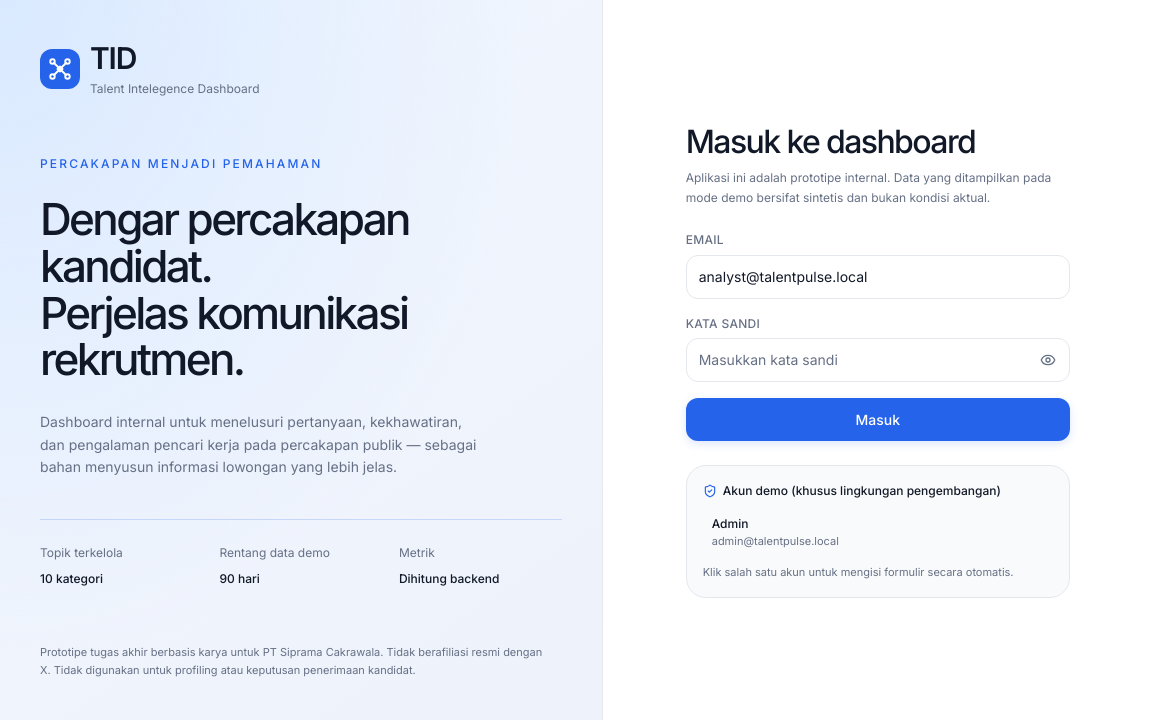
halaman masuk › menampilkan pesan Bahasa Indonesia saat kredensial salah
In the password field labelled "Kata sandi": (878, 360) x1=686 y1=338 x2=1070 y2=382, type "salah"
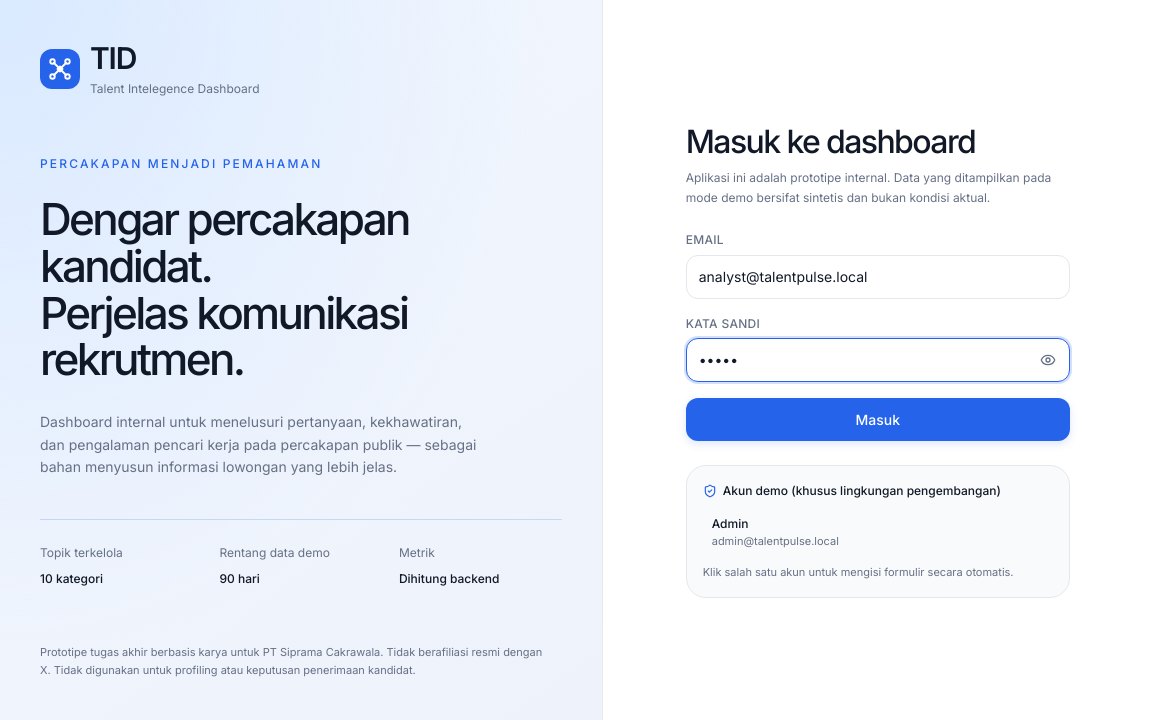
Click the button "Masuk": click(878, 420) x1=686 y1=398 x2=1070 y2=441
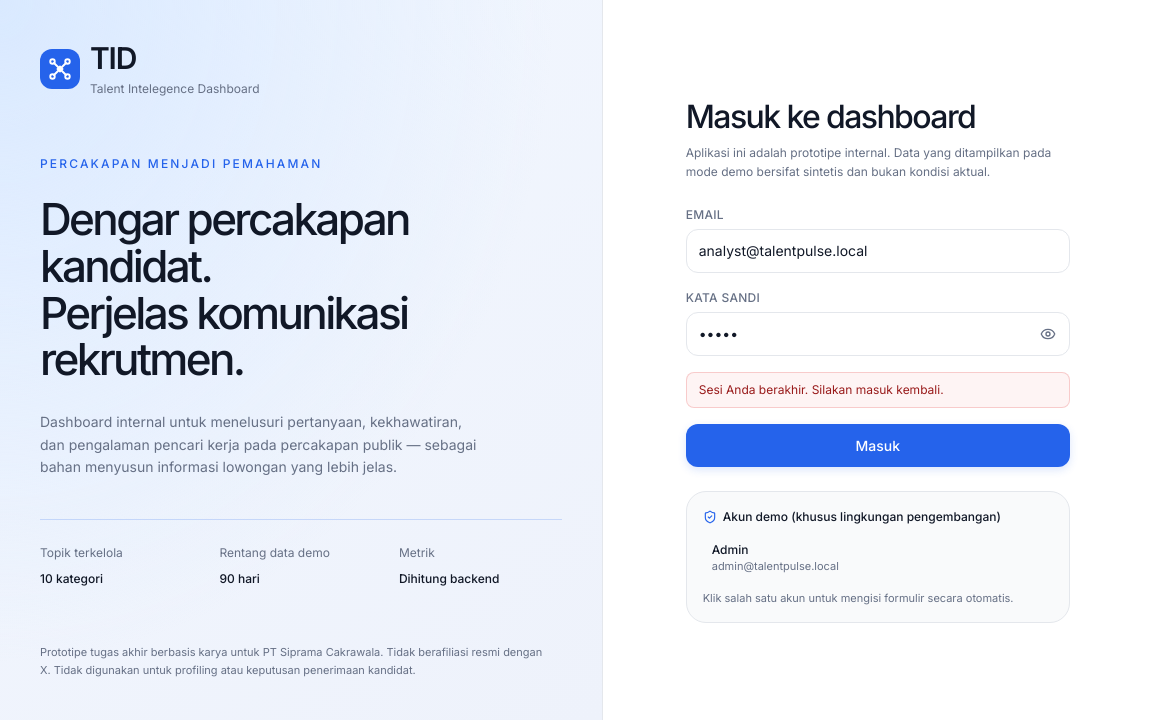
Expected: the message reads "Sesi Anda berakhir. Silakan masuk kembali.", x1=699 y1=382 x2=944 y2=397
